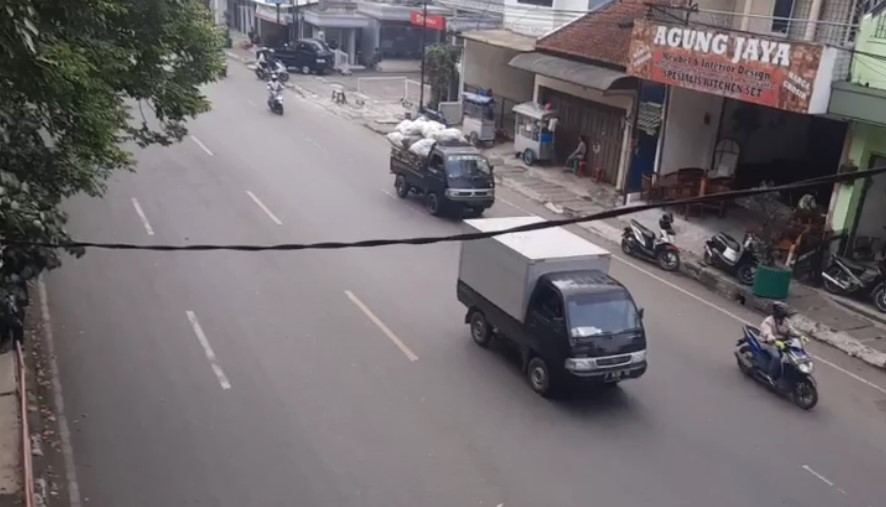mobil: (433, 210, 668, 406), (387, 132, 507, 225)
motor: (734, 302, 821, 407)
